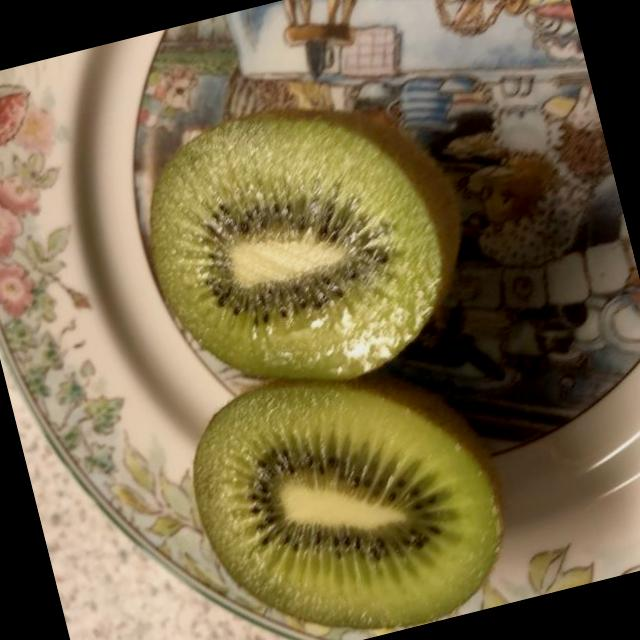Kiwi: (113, 73, 490, 414), (169, 329, 535, 640)
